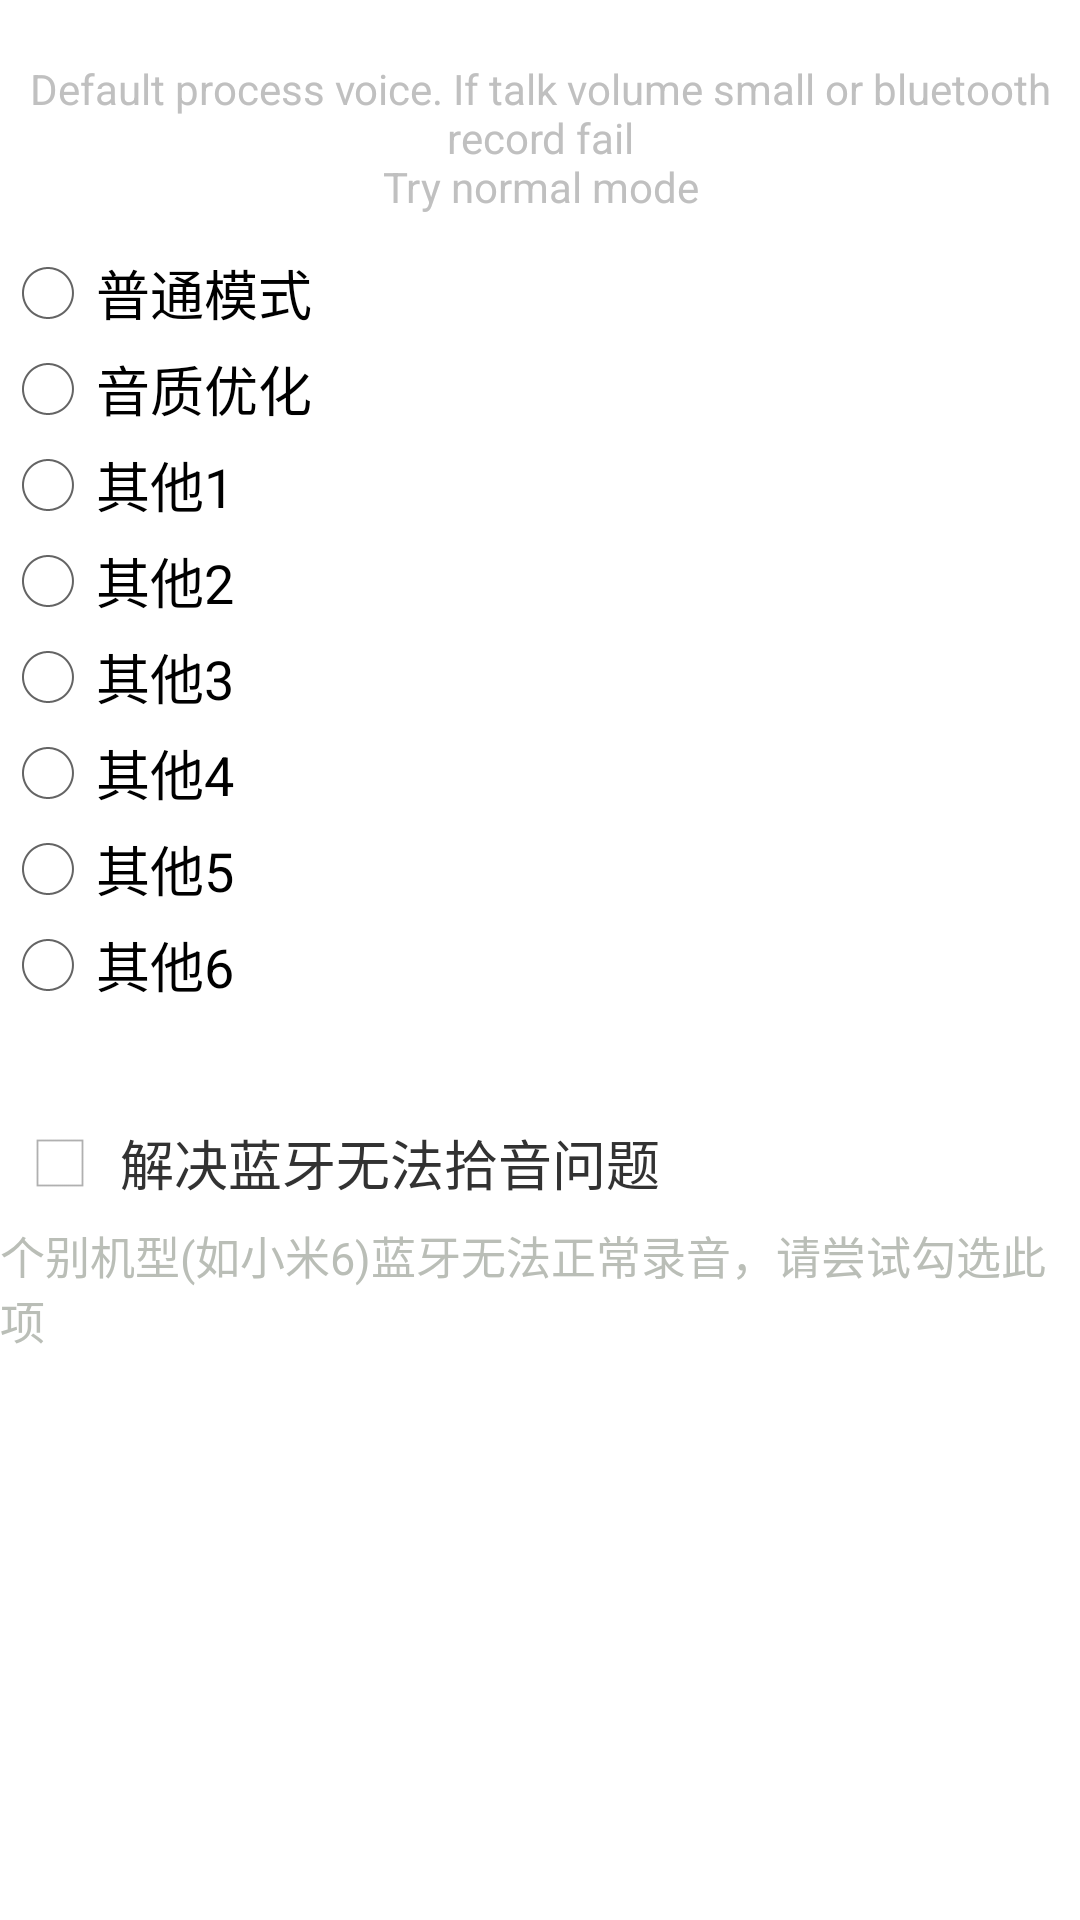

Icon click points for this 1080 × 1920 phone screenshot, format point (x, y):
checkbox off: point (60, 1163)
